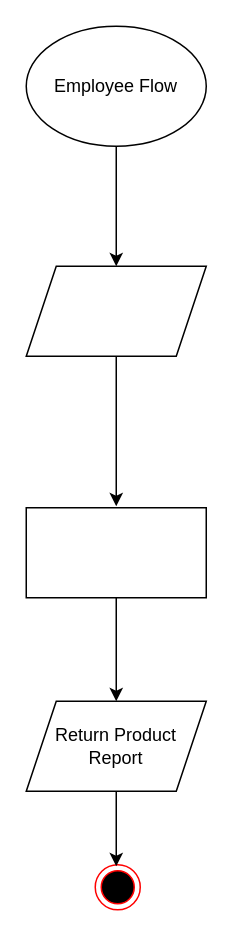
Some shapes in this 233 by 936 pixel diagram are drawn without their labels. The centre of each missing label's shape, as x and y in pixels:
"Search Product Name" belongs at point (115, 310).
"View Product Quantity and Product Location" belongs at point (115, 552).
